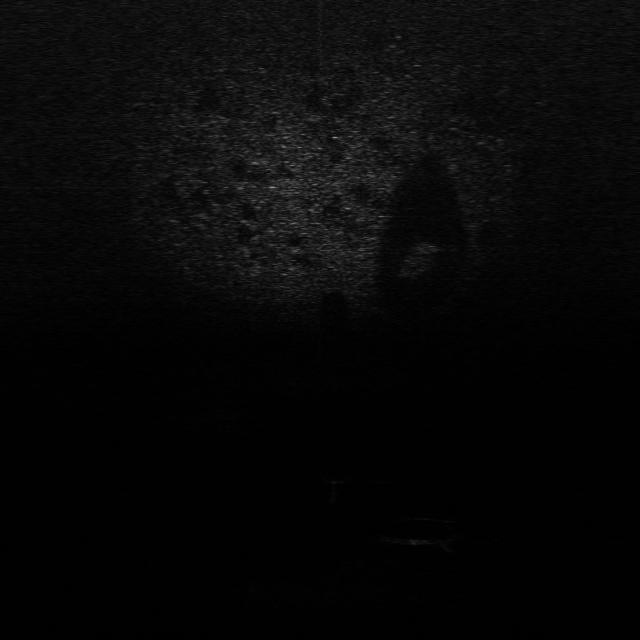ball: (318, 465, 354, 484)
tyre: (376, 508, 463, 552)
